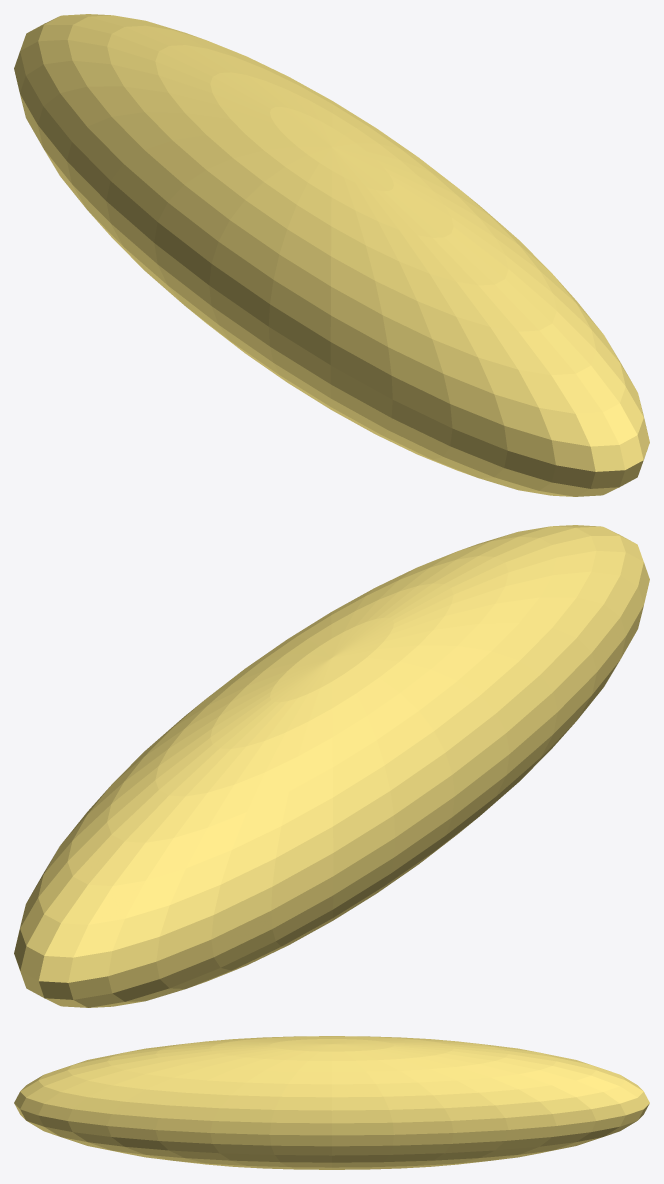
File: bullet.fbx
The picture shows the model from 3 angles, top to bottom: view 1: azimuth 30°, elevation 25°; view 2: azimuth 150°, elevation 25°; view 3: azimuth 270°, elevation 25°; orthographic projection. The views are drawn at different scales.
Visible parts, largest first — view 1: Sphere; view 2: Sphere; view 3: Sphere.
Part boxes in pixels (box(x1,y1,x2,y2)): Sphere: box(14, 14, 649, 496); Sphere: box(14, 525, 649, 1007); Sphere: box(14, 1036, 649, 1169).
Bounding box in the file's own units: 101 × 84.93 × 416.
